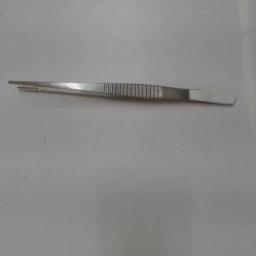DeBakey Dissector: (8, 60, 248, 108)
